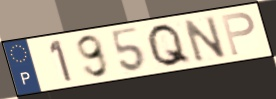1: (47, 38, 77, 84)
5: (108, 25, 150, 75)
9: (74, 33, 112, 80)
N: (180, 14, 229, 65)
P: (219, 10, 257, 57)
Q: (145, 21, 194, 68)
